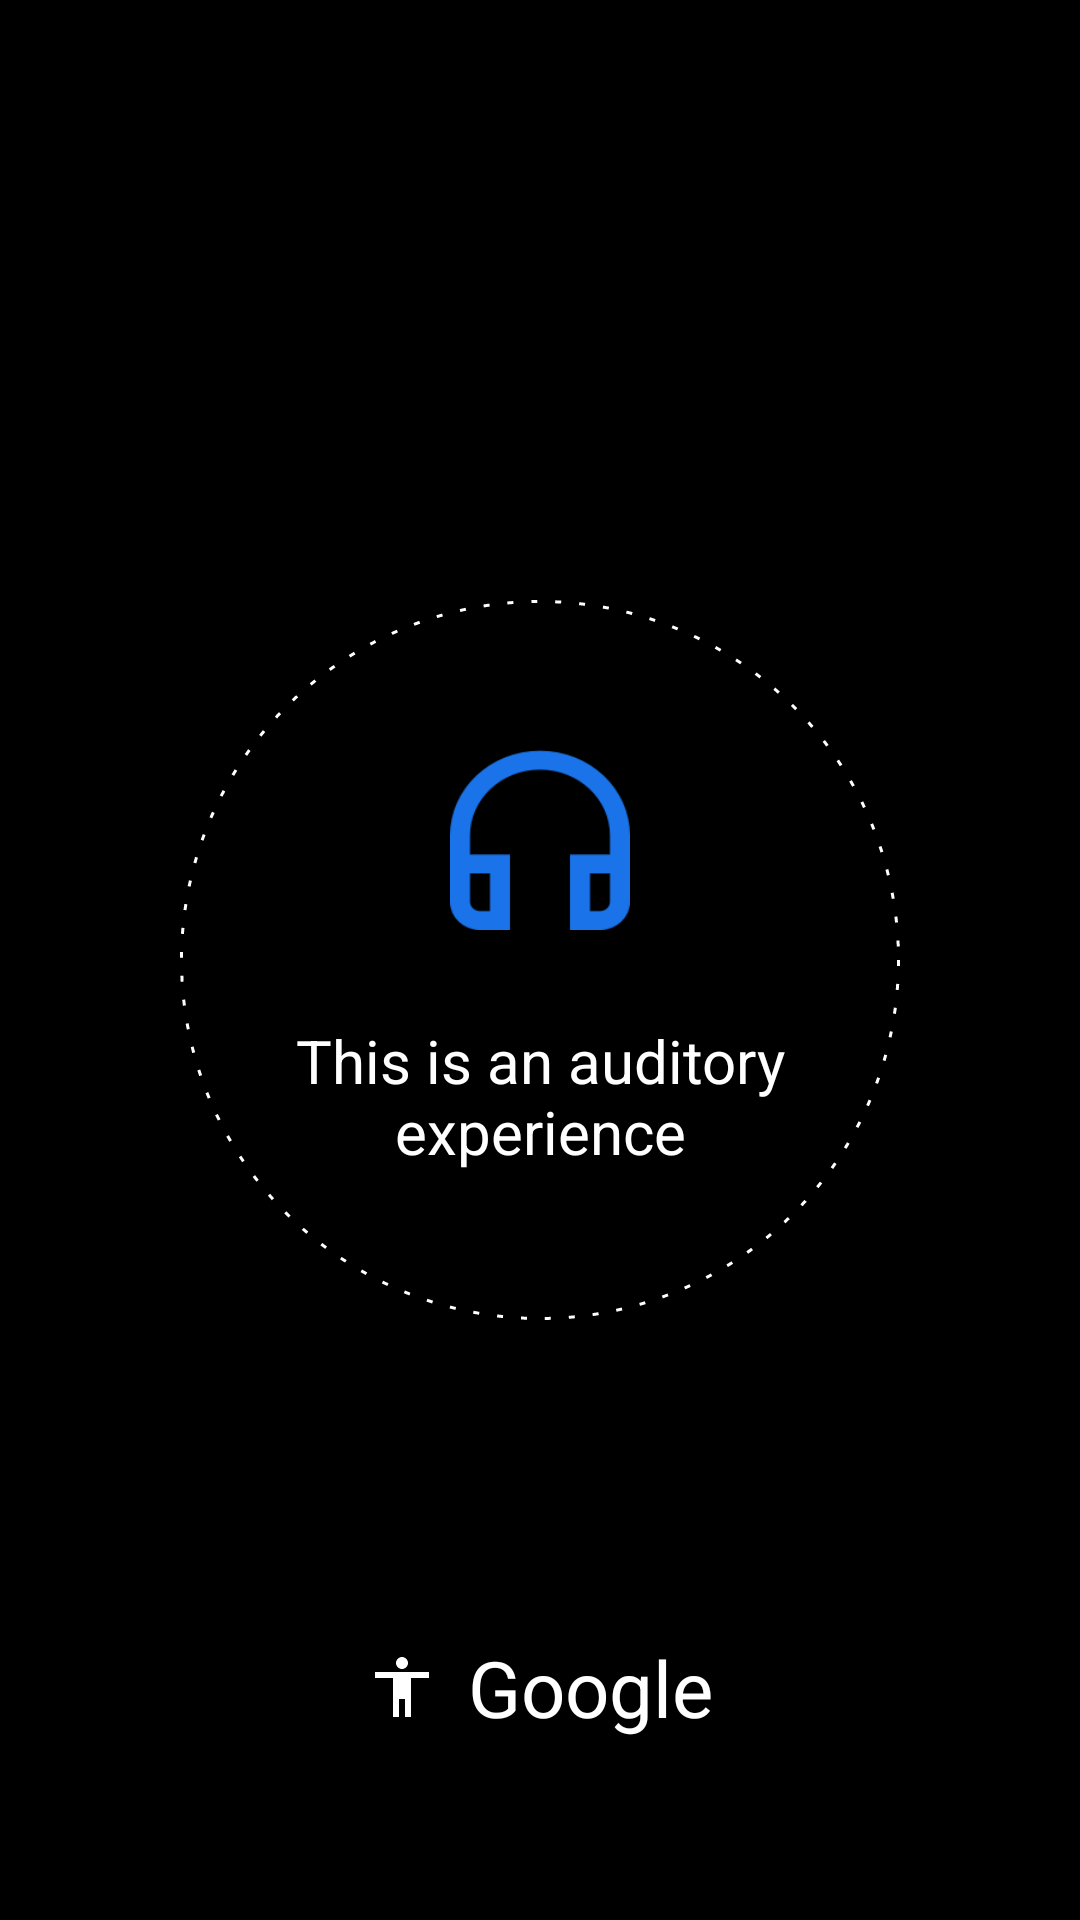

Point at icon controls on the screen. Image size 1080*1920, points as (x,y).
headphones: (540,840)
